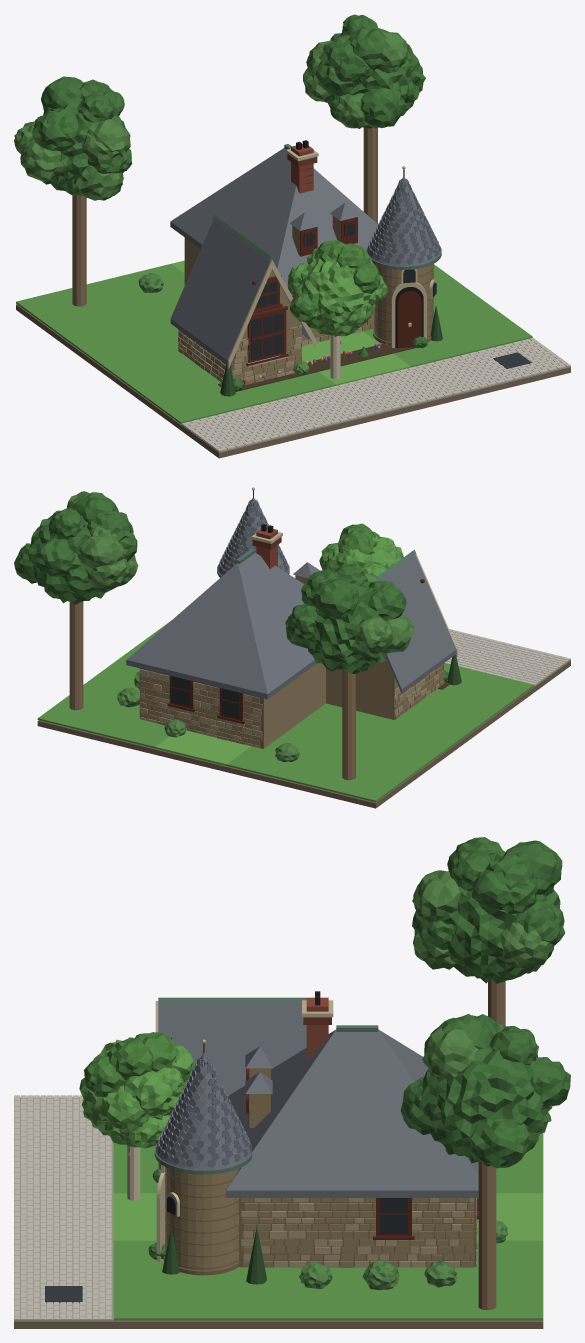
File: stone-turret-cottage.glb
3 renders of one model, top to bottom at view 1: azimuth 30°, elevation 25°; view 2: azimuth 150°, elevation 25°; view 3: azimuth 270°, elevation 25°, orthographic. The views are drawn at different scales.
Visible parts, largest first — view 1: grass, roof, leaf_bg, brick_pv, leaf_bg2, leaf, stone, brick_gd, trunk_bg, grass2, leaf2, shingle (+12 smaller); view 2: grass, roof, leaf_bg, stone, leaf_bg2, brick_gd, brick_pv, trunk_bg, wall, stone3, leaf, grass2 (+8 smaller); view 3: roof, leaf_bg, grass, brick_pv, stone, leaf_bg2, leaf, stone2, mortar, brick_gd, stone3, grass2 (+12 smaller).
Boxes of the visible parts, x1,y1,x2,y2 form: grass: (16, 223, 532, 423); roof: (170, 148, 440, 364); leaf_bg: (32, 14, 427, 391); brick_pv: (182, 338, 570, 451); leaf_bg2: (14, 30, 407, 375); leaf: (287, 247, 387, 336); stone: (178, 216, 433, 384); brick_gd: (16, 304, 570, 458); trunk_bg: (72, 127, 377, 343); grass2: (171, 260, 410, 385); leaf2: (290, 240, 380, 323); shingle: (367, 179, 440, 264); grass: (37, 620, 534, 802); roof: (126, 497, 456, 699); leaf_bg: (14, 492, 448, 681); stone: (139, 565, 444, 744); leaf_bg2: (66, 491, 413, 761); brick_gd: (37, 661, 570, 808); brick_pv: (444, 629, 570, 685); trunk_bg: (69, 601, 355, 780); wall: (264, 663, 325, 748); stone3: (139, 668, 439, 748); leaf: (319, 535, 403, 576); grass2: (155, 730, 250, 765); roof: (156, 1003, 478, 1197); leaf_bg: (148, 837, 570, 1259); grass: (113, 1133, 543, 1320); brick_pv: (14, 1095, 111, 1320); stone: (165, 1068, 477, 1270); leaf_bg2: (152, 870, 553, 1290); leaf: (79, 1037, 194, 1148); stone2: (163, 1167, 475, 1275); mortar: (14, 1096, 113, 1321); brick_gd: (14, 1320, 543, 1328); stone3: (237, 1198, 477, 1267); grass2: (113, 1193, 543, 1240).
Size of the model in its own units: 19.49 by 10.38 by 17.88.
